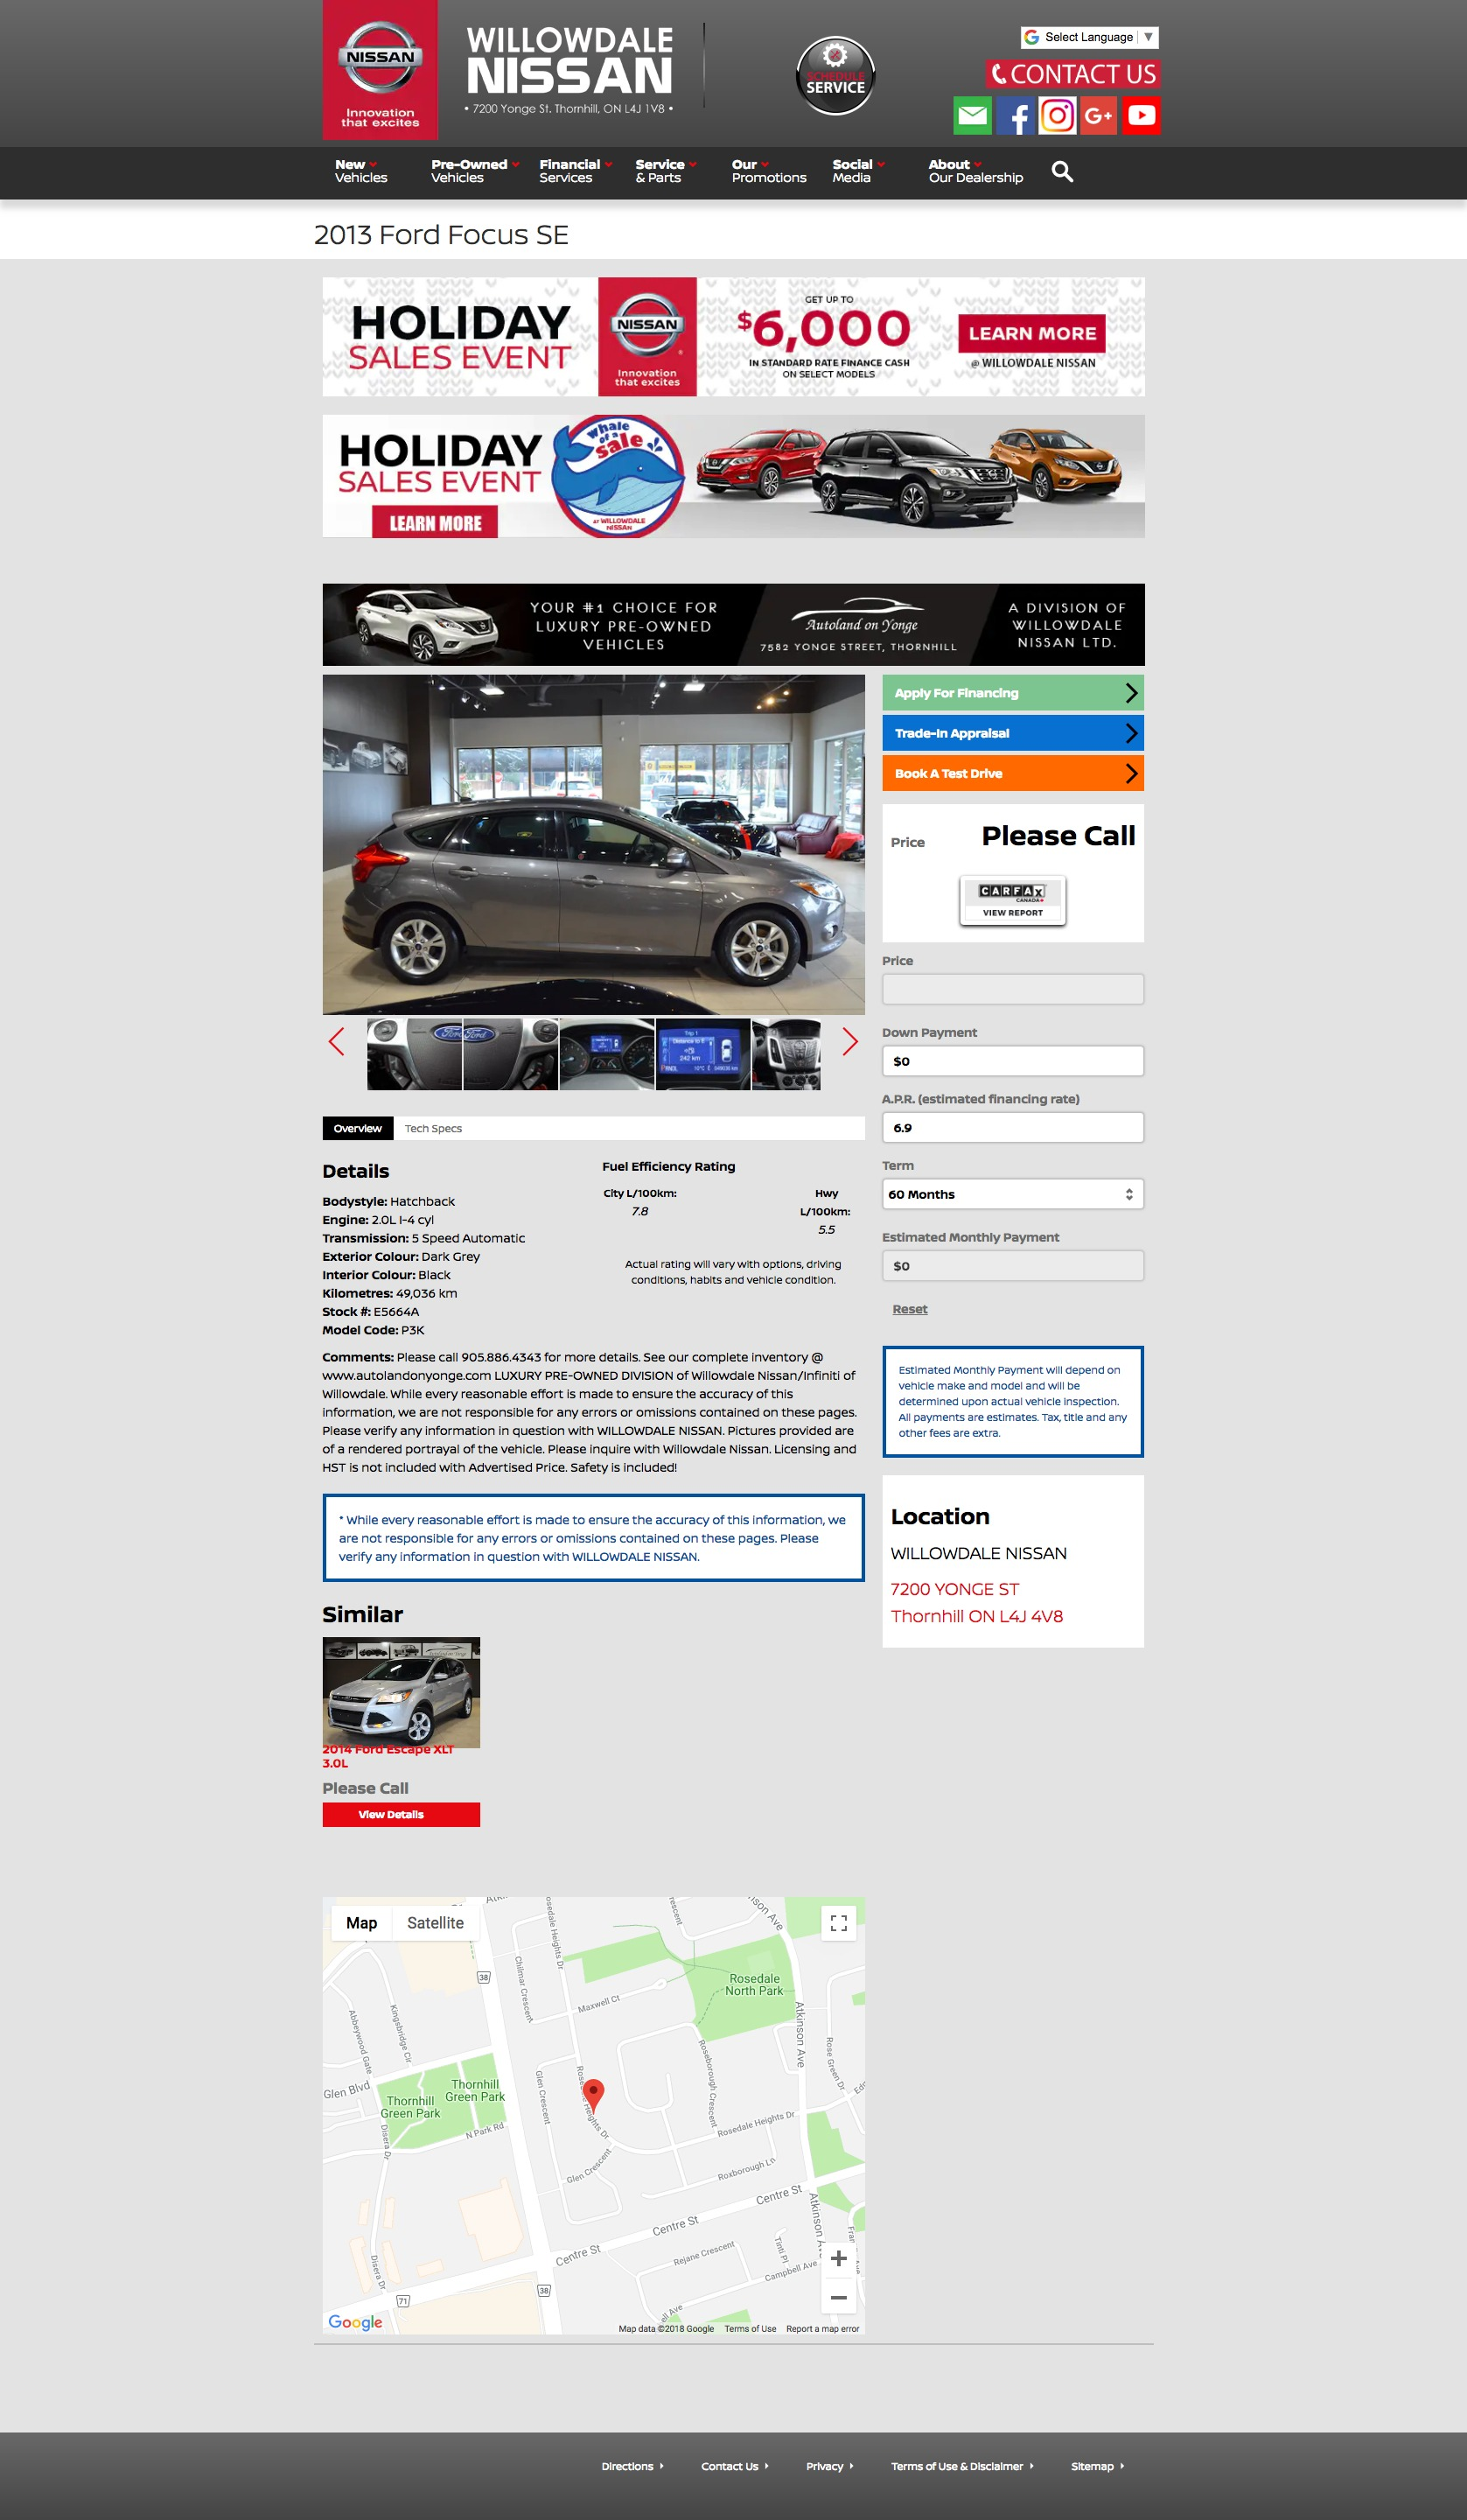car: (842, 1027, 859, 1057)
